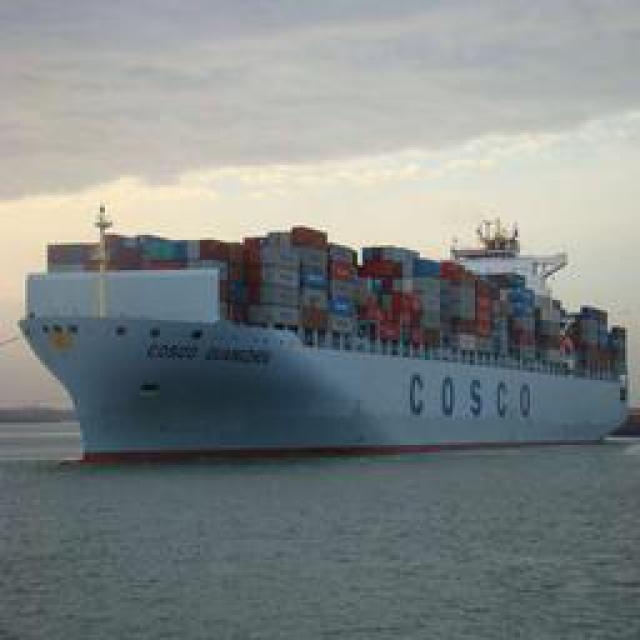Ship: (20, 196, 630, 454)
